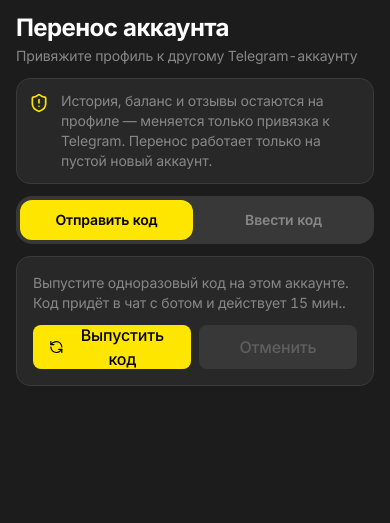
Test: <AccountTransferPage /> › 'Receive' tab: blocks confirm until the code matches policy length
Click the button "Ввести код" at [284, 220], box [197,200,370,240]
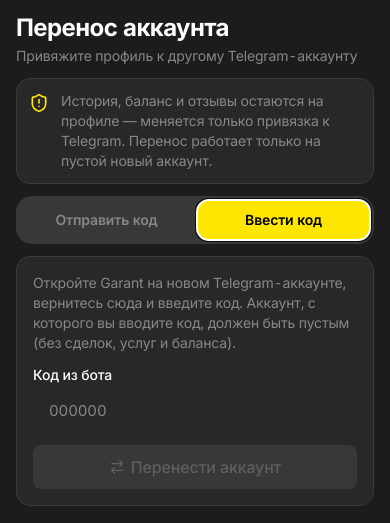
Check: the button "Перенести аккаунт" is disabled, box [33,445,357,489]
